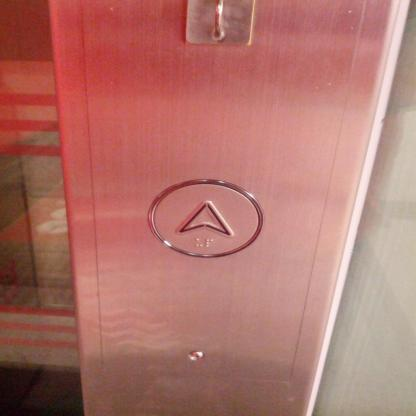up: (146, 176, 264, 262)
